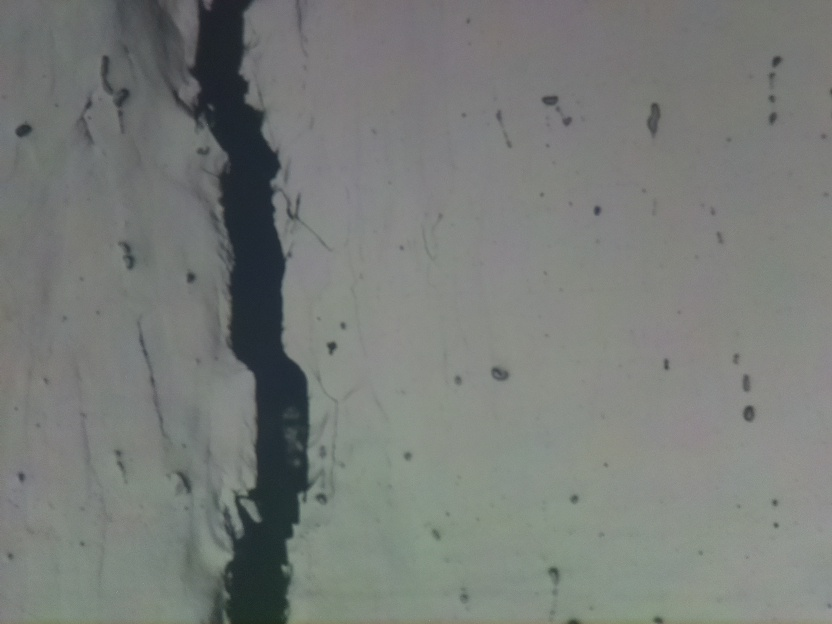crack: (196, 0, 309, 624)
